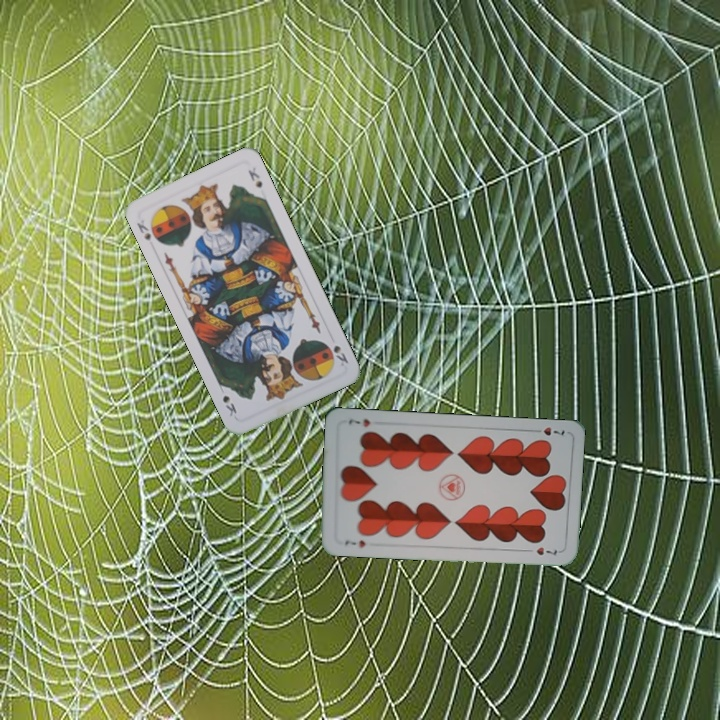H7: (528, 423, 567, 438), (341, 536, 368, 550)
SK: (329, 341, 351, 369), (133, 215, 154, 244)
